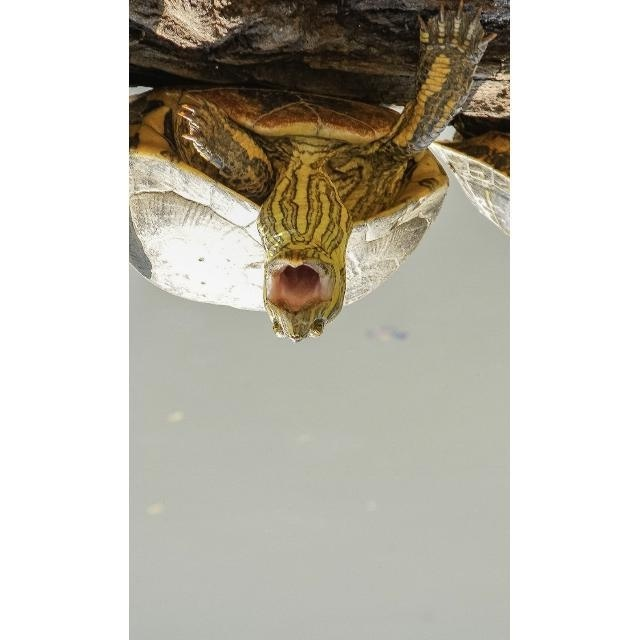turtle: (133, 5, 498, 345)
